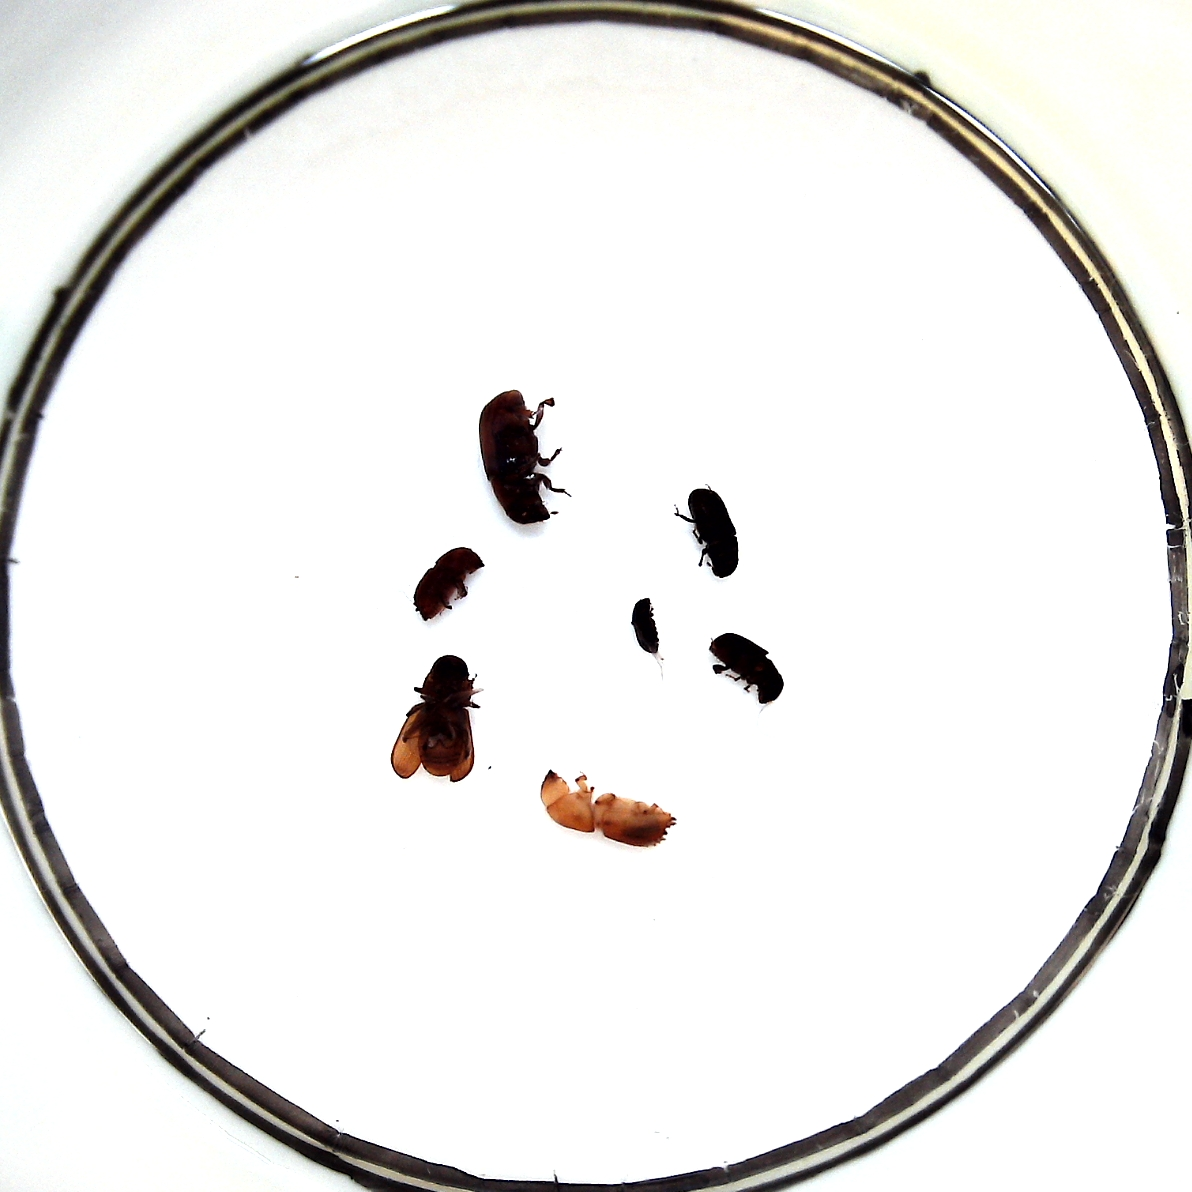Boerner: (540, 768, 677, 848)
Leconte: (391, 654, 478, 782), (480, 389, 552, 524)
armandi: (710, 632, 784, 703), (688, 488, 739, 579)
coleoptera: (631, 598, 660, 654)
linnaeus: (413, 547, 485, 621)
